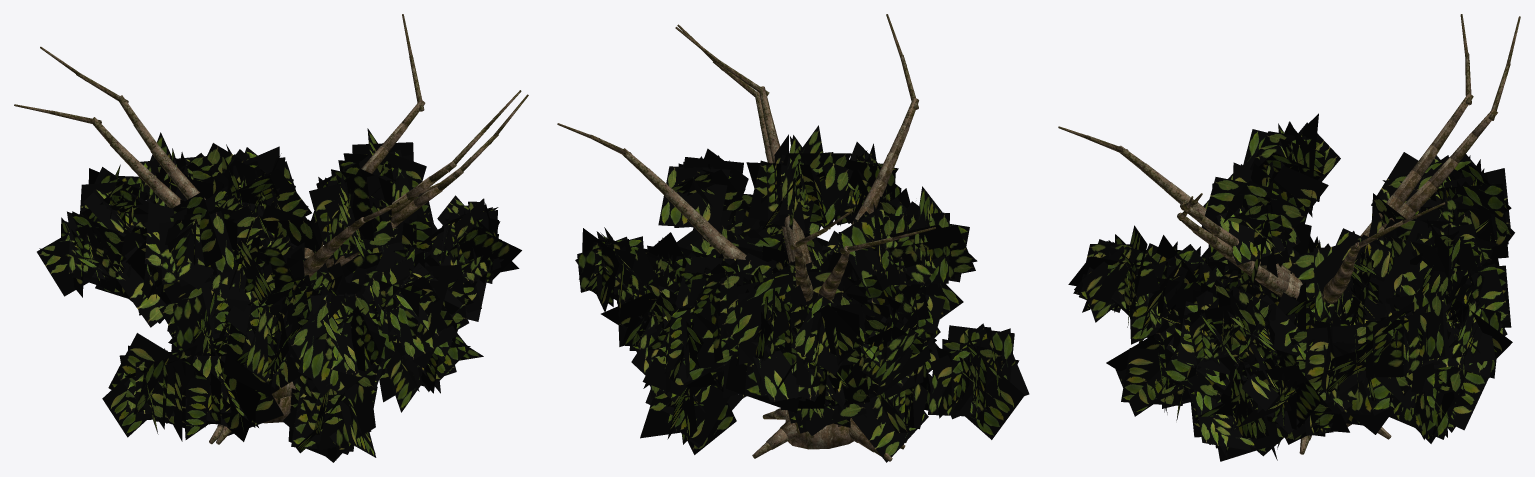
The model's file is giant_4.glb.
The picture shows the model from 3 angles, left to right: view 1: azimuth 30°, elevation 25°; view 2: azimuth 150°, elevation 25°; view 3: azimuth 270°, elevation 25°; orthographic projection. The views are drawn at different scales.
Parts seen in each view (by area): view 1: giant; view 2: giant; view 3: giant.
Boxes of the visible parts, box(x1,y1,x2,y2) form: giant: box(14, 14, 528, 462); giant: box(557, 14, 1029, 462); giant: box(1058, 14, 1520, 461).
Bounding box in the file's own units: 18.47 × 15.15 × 18.47.
2 materials, 2 textured.
